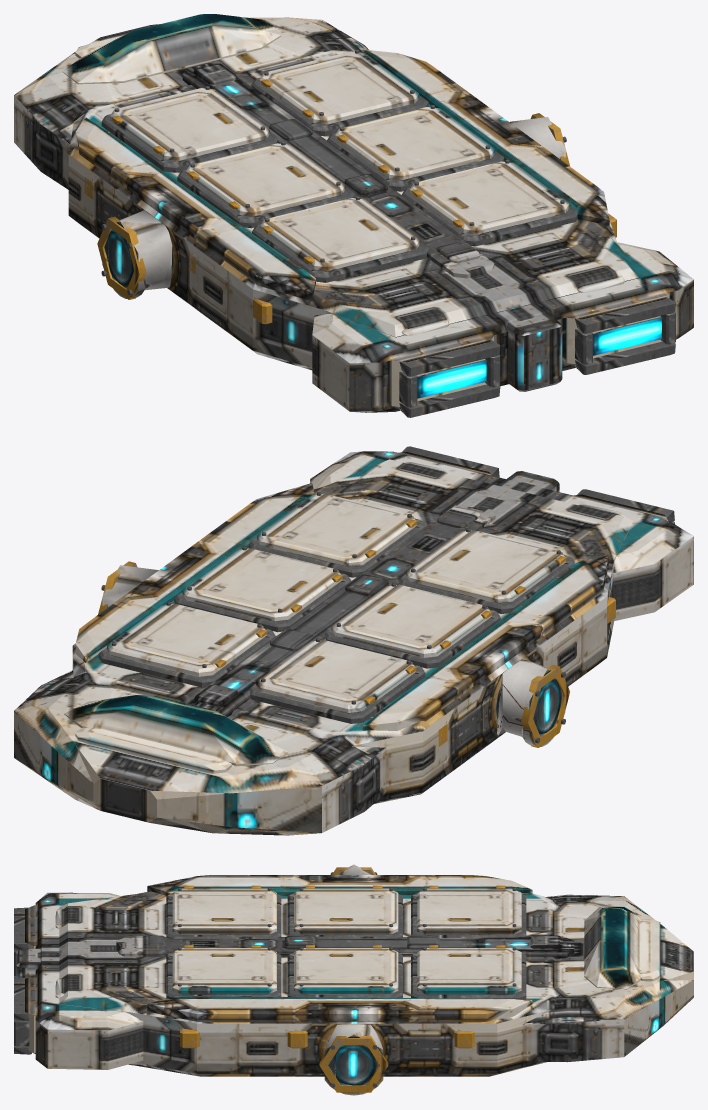
Rendered from clean-slate-lod2.glb.
3 renders of one model, top to bottom at view 1: azimuth 30°, elevation 25°; view 2: azimuth 150°, elevation 25°; view 3: azimuth 270°, elevation 25°, orthographic. The views are drawn at different scales.
Parts seen in each view (by area): view 1: Static / Clean Slate / painted hull and fittings, Static / Ventral / Clean Slate; view 2: Static / Clean Slate / painted hull and fittings, Static / Ventral / Clean Slate; view 3: Static / Clean Slate / painted hull and fittings, Static / Ventral / Clean Slate.
Part boxes in pixels (x1,y1,x2,y2): Static / Clean Slate / painted hull and fittings: (14,14,693,417); Static / Ventral / Clean Slate: (75,80,676,412); Static / Clean Slate / painted hull and fittings: (14,446,693,833); Static / Ventral / Clean Slate: (17,523,604,835); Static / Clean Slate / painted hull and fittings: (14,864,693,1095); Static / Ventral / Clean Slate: (32,932,689,1076).
Bounding box in the file's own units: 11.91 × 2.91 × 19.74.
Materials: 2 (2 with a texture image).
